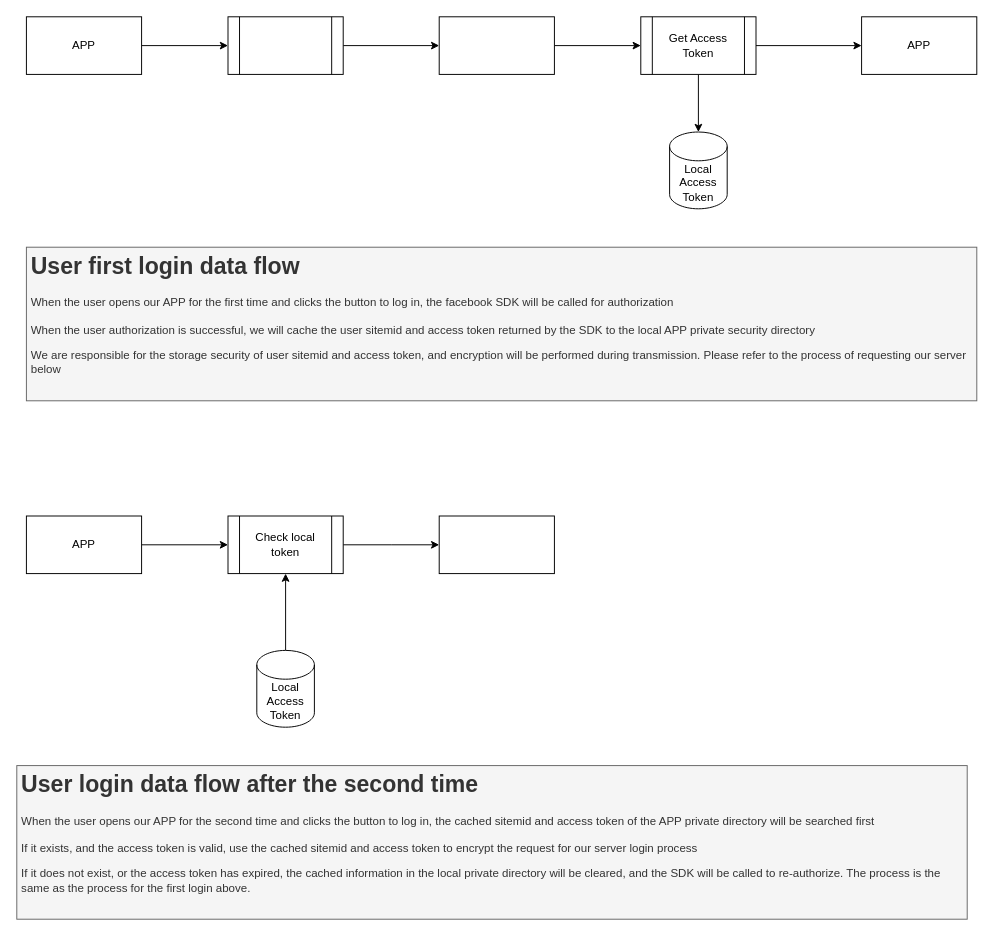
The diagram is 994 pixels wide and 936 high, and some of its shapes have lost their labels. Each missing label, with the centre of its shape:
"Facebook" goes at point (496, 45).
"Our Server" goes at point (496, 544).
"SDK Request" goes at point (285, 45).
